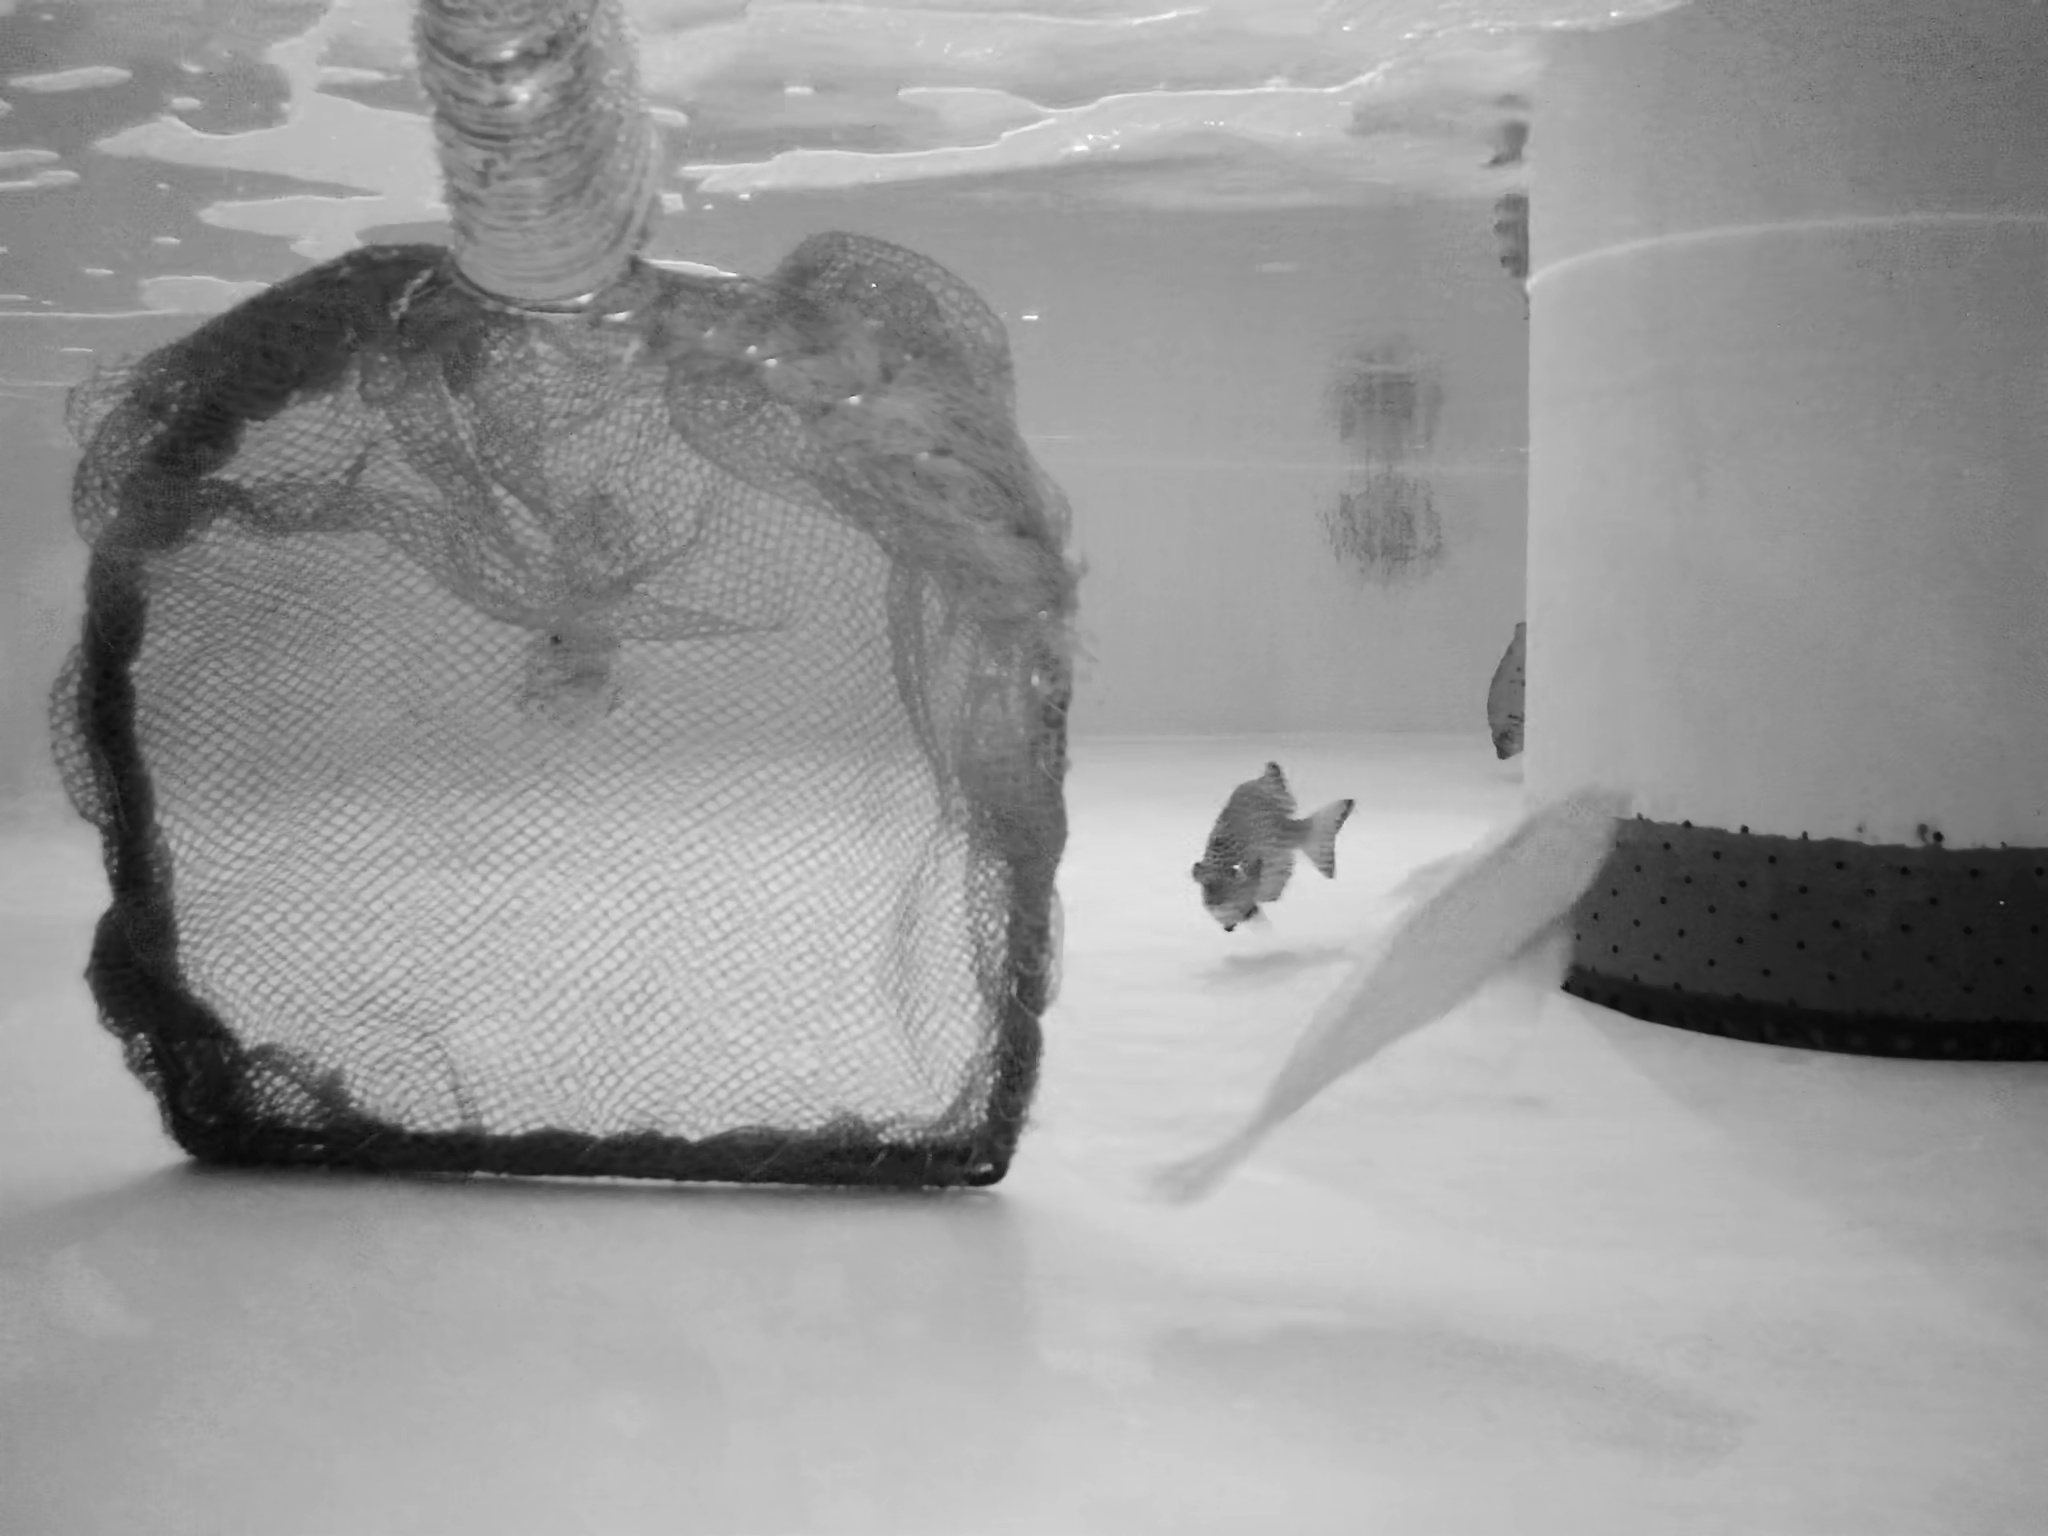fish: (1192, 758, 1359, 937), (522, 555, 626, 763), (1492, 620, 1530, 762)
